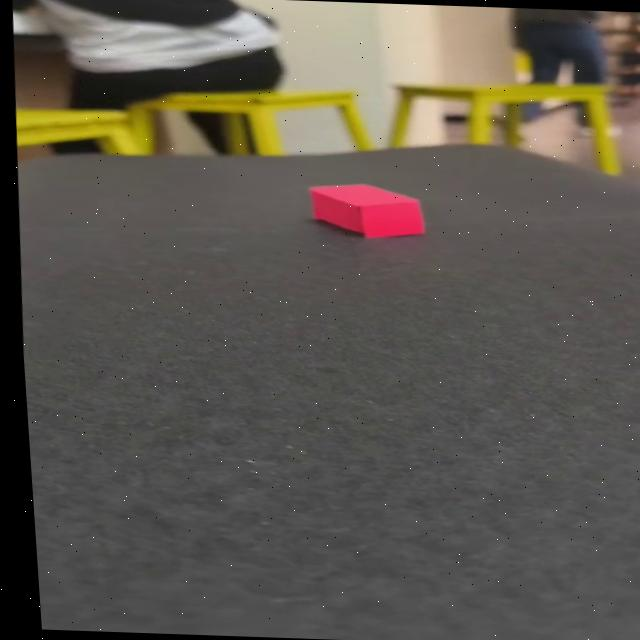red block: (304, 179, 426, 239)
